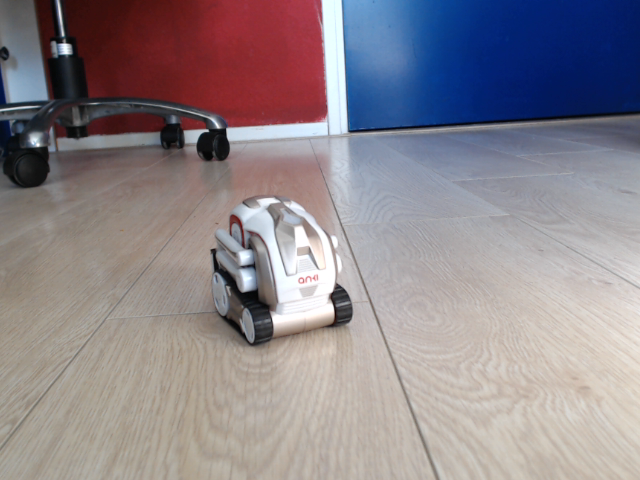cozmo: (206, 191, 356, 350)
